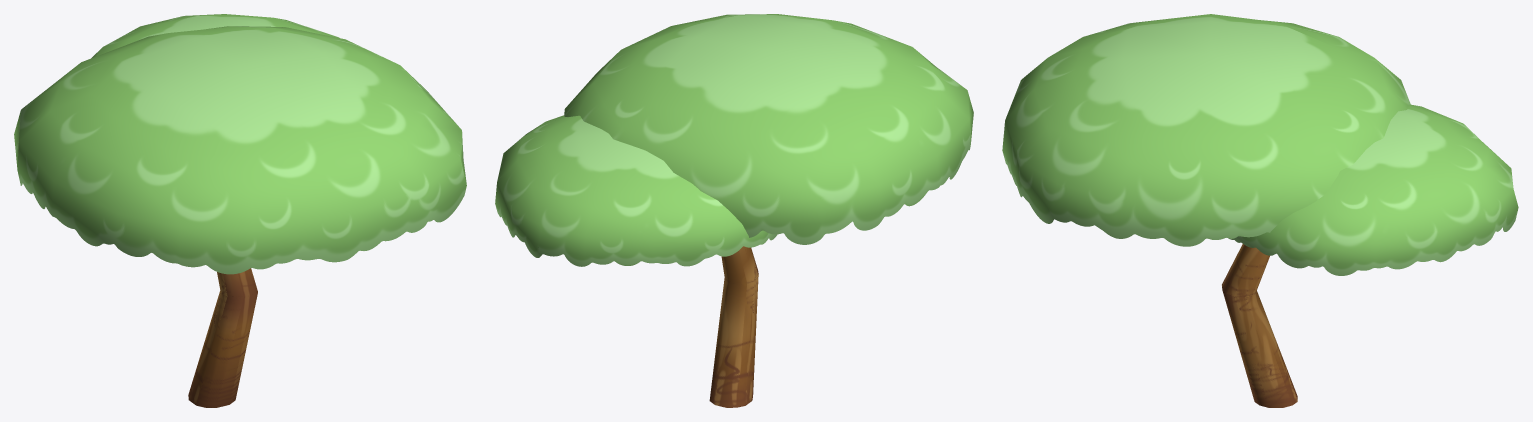
Rendered from arvore 4.fbx.
3 renders of one model, left to right at view 1: azimuth 30°, elevation 25°; view 2: azimuth 150°, elevation 25°; view 3: azimuth 270°, elevation 25°, orthographic. The views are drawn at different scales.
Visible parts, largest first — view 1: copa arvore 2.001, tronco 2.002, copa arvore 2.002; view 2: copa arvore 2.001, copa arvore 2.002, tronco 2.002; view 3: copa arvore 2.001, copa arvore 2.002, tronco 2.002.
Boxes of the visible parts, x1,y1,x2,y2 form: copa arvore 2.001: [14, 26, 466, 274]; tronco 2.002: [188, 268, 257, 407]; copa arvore 2.002: [91, 14, 339, 58]; copa arvore 2.001: [564, 14, 973, 244]; copa arvore 2.002: [495, 115, 777, 266]; tronco 2.002: [709, 246, 758, 407]; copa arvore 2.001: [1002, 14, 1410, 246]; copa arvore 2.002: [1228, 104, 1518, 275]; tronco 2.002: [1222, 244, 1297, 407].
Size of the model in its own units: 682 by 586 by 800.
Materials: 2 (2 with a texture image).
